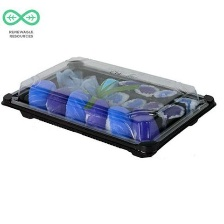plastic_box: (0, 50, 220, 164)
